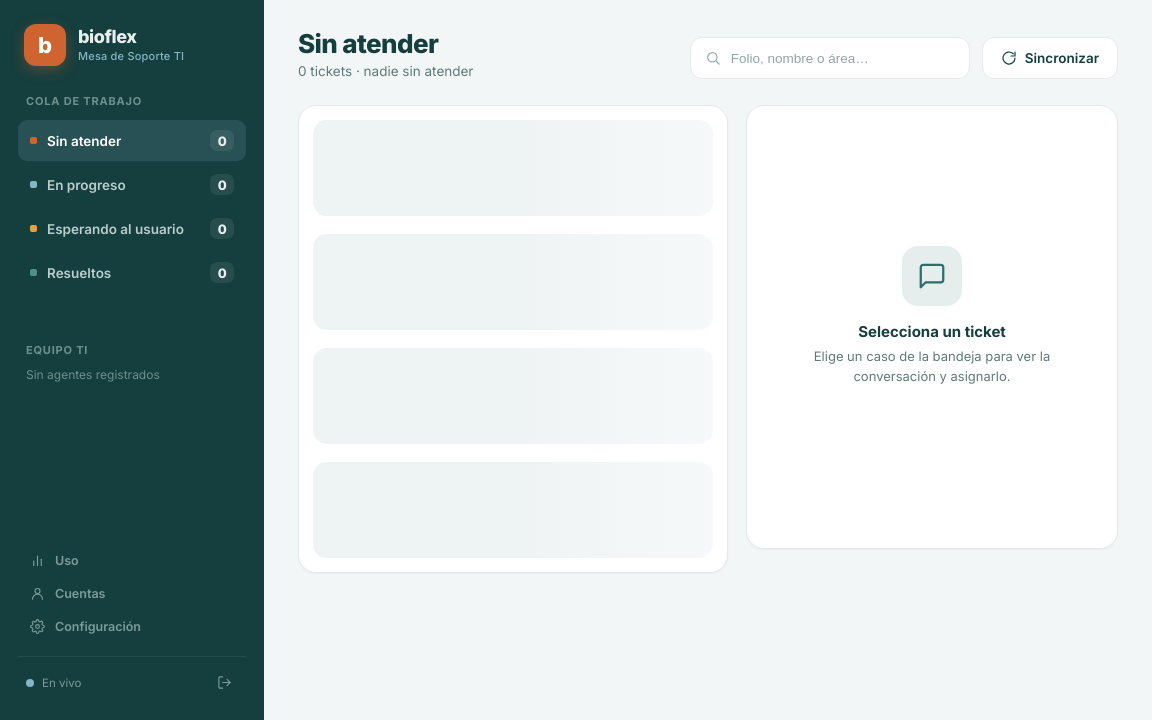
Scenario: el error del backend se muestra (WhatsApp de otra cuenta)
Step 1. Click the button "Cuentas" → (132, 594), box [18,578,246,609]
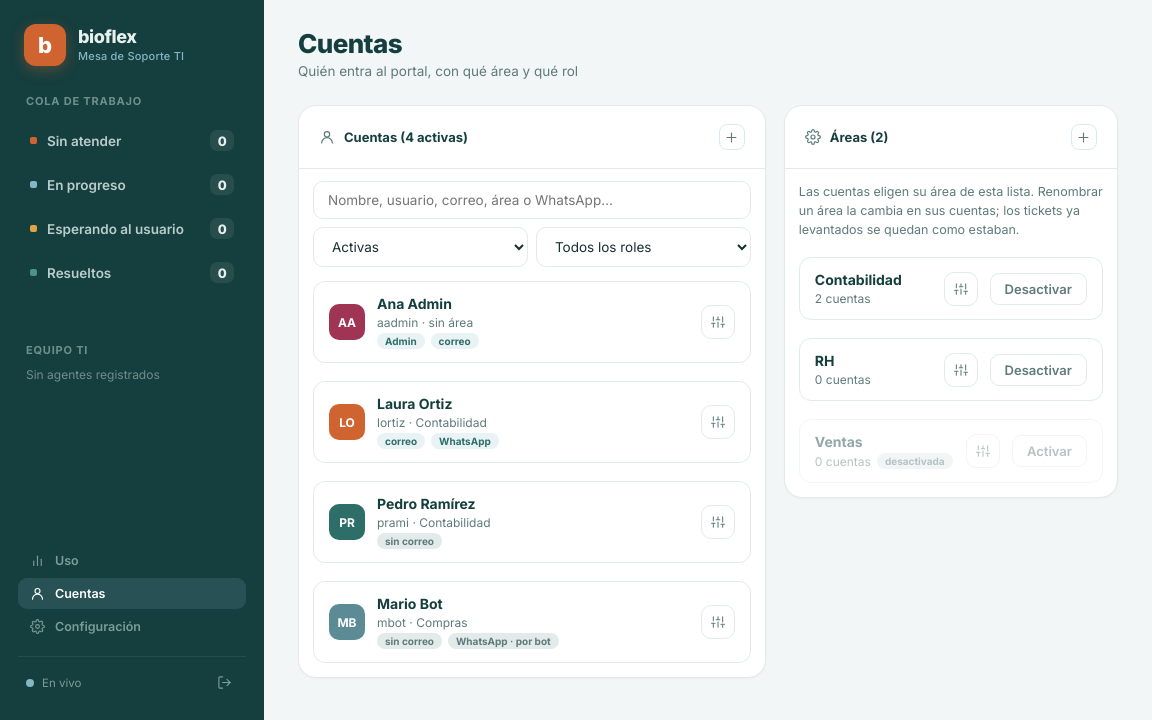
Result: the element with class "bf-cfg-row" that starts with "Laura Ortiz" is shown at [313,381,751,463]
Step 2. Click the button named "Editar Pedro Ramírez" → (718, 522), box [701,505,735,539]
(page scrolled)
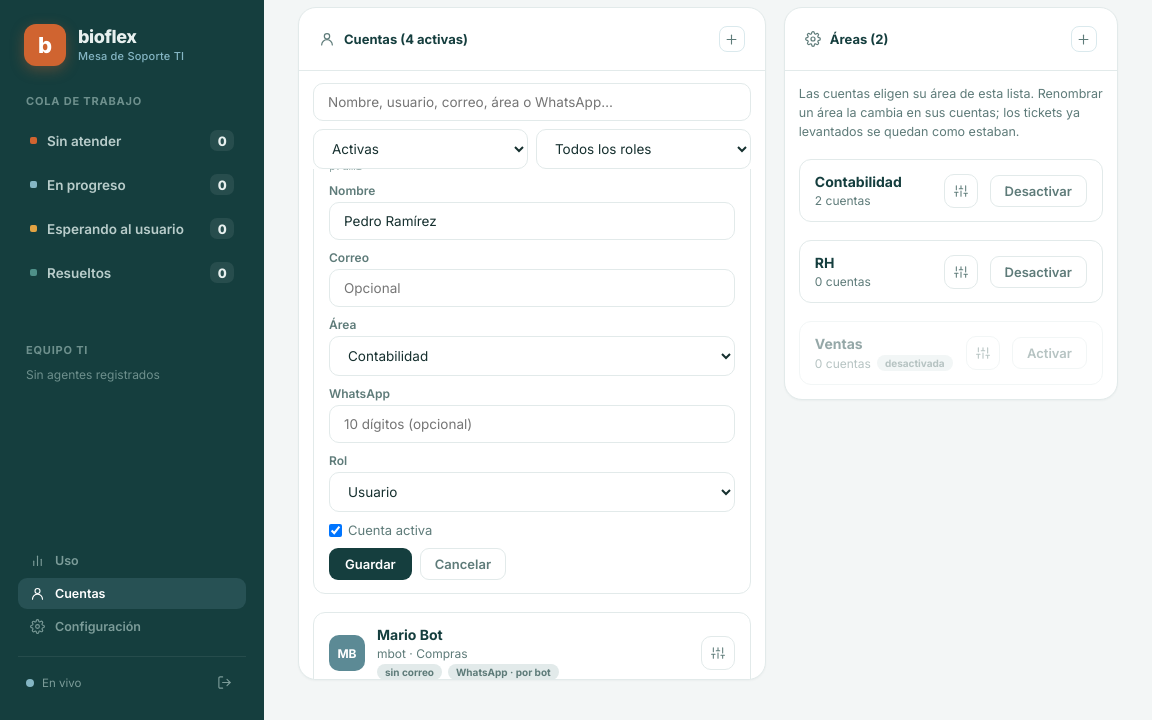
Step 3. Type "4771112222" into the field labelled "WhatsApp" → (532, 424), box [329,405,735,443]
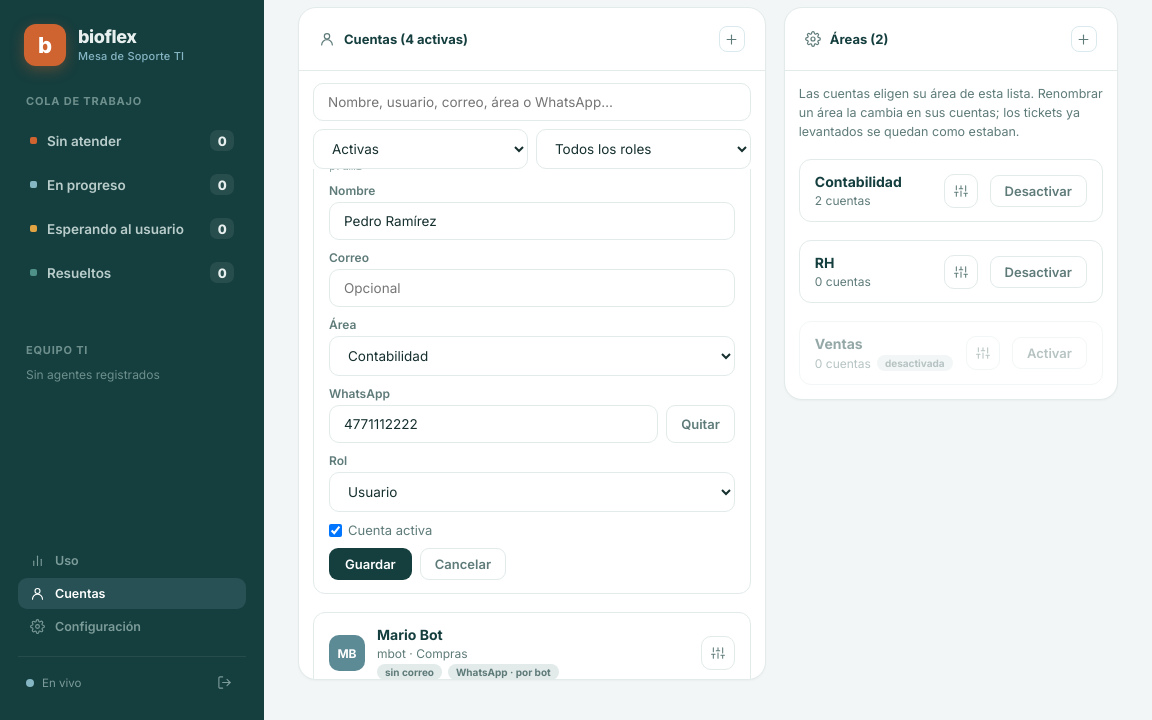
Step 4. Click the button "Guardar" → (370, 564), box [329,548,412,580]
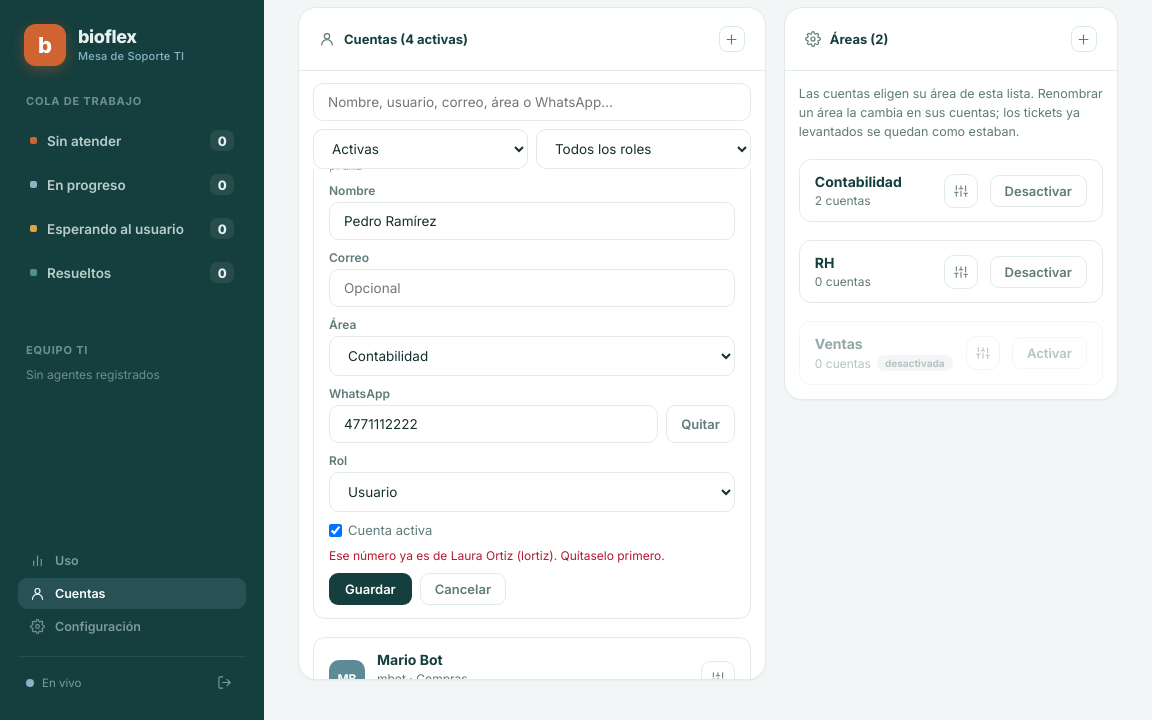
Result: the text "Ese número ya es de Laura Ortiz (lortiz). Quítaselo primero." is shown at [329,548,665,563]
